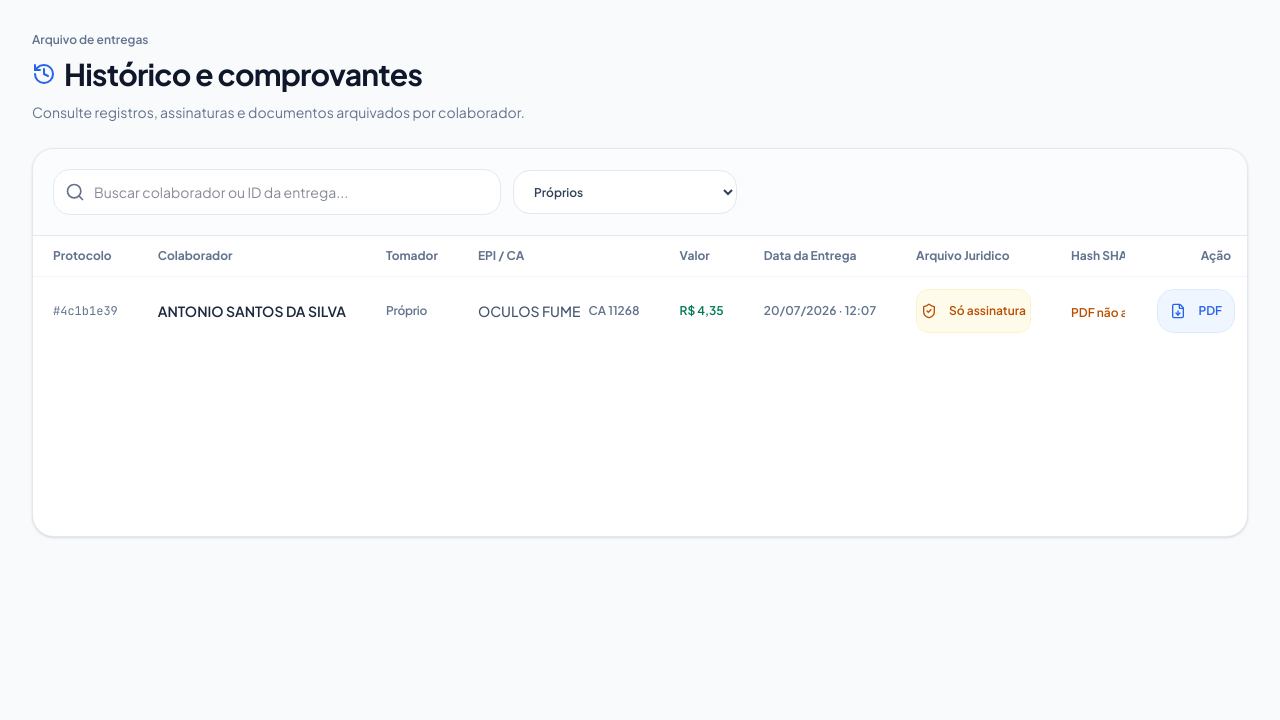
Test: HistoryPage › mantém o botão ocupado enquanto renova o acesso à assinatura e recupera uma falha
The image size is (1280, 720).
Click the button with aria-label "abrir somente a assinatura" at point(974, 311), box [916,289,1031,333]
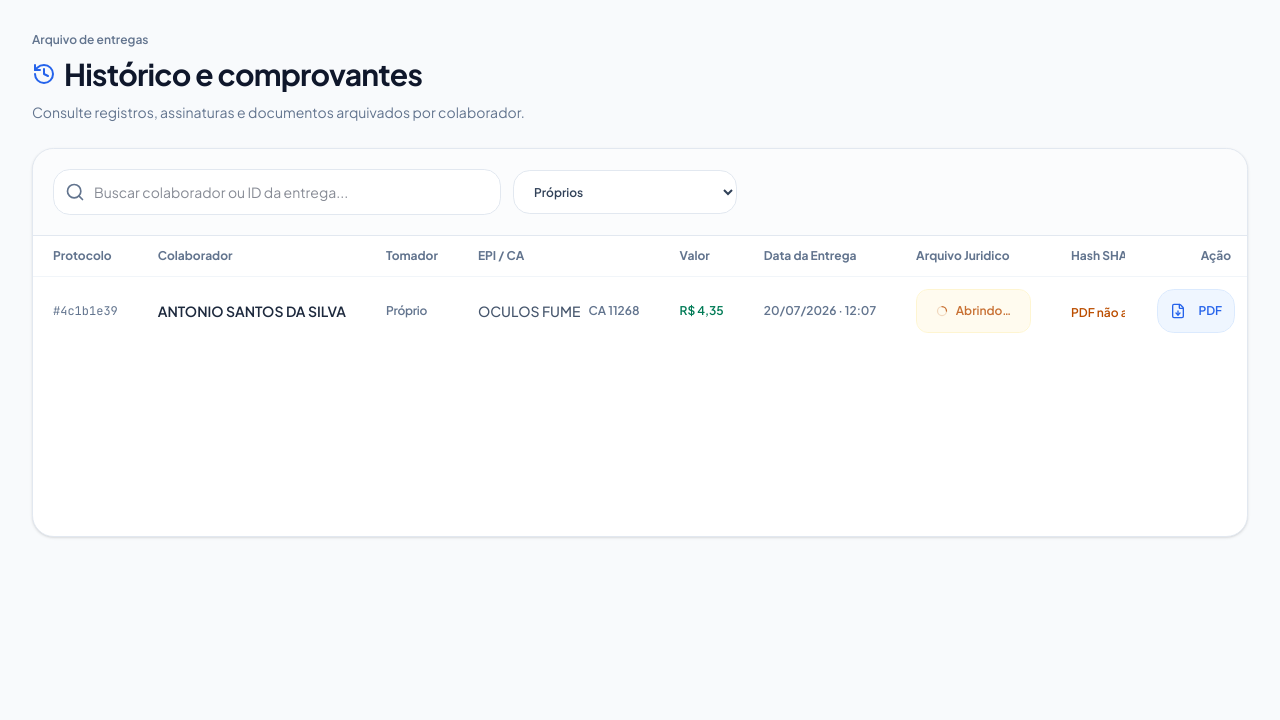
Expected: the button with aria-label "abrir somente a assinatura" is disabled
Click the button with aria-label "abrir somente a assinatura" at point(974, 311), box [916,289,1031,333]
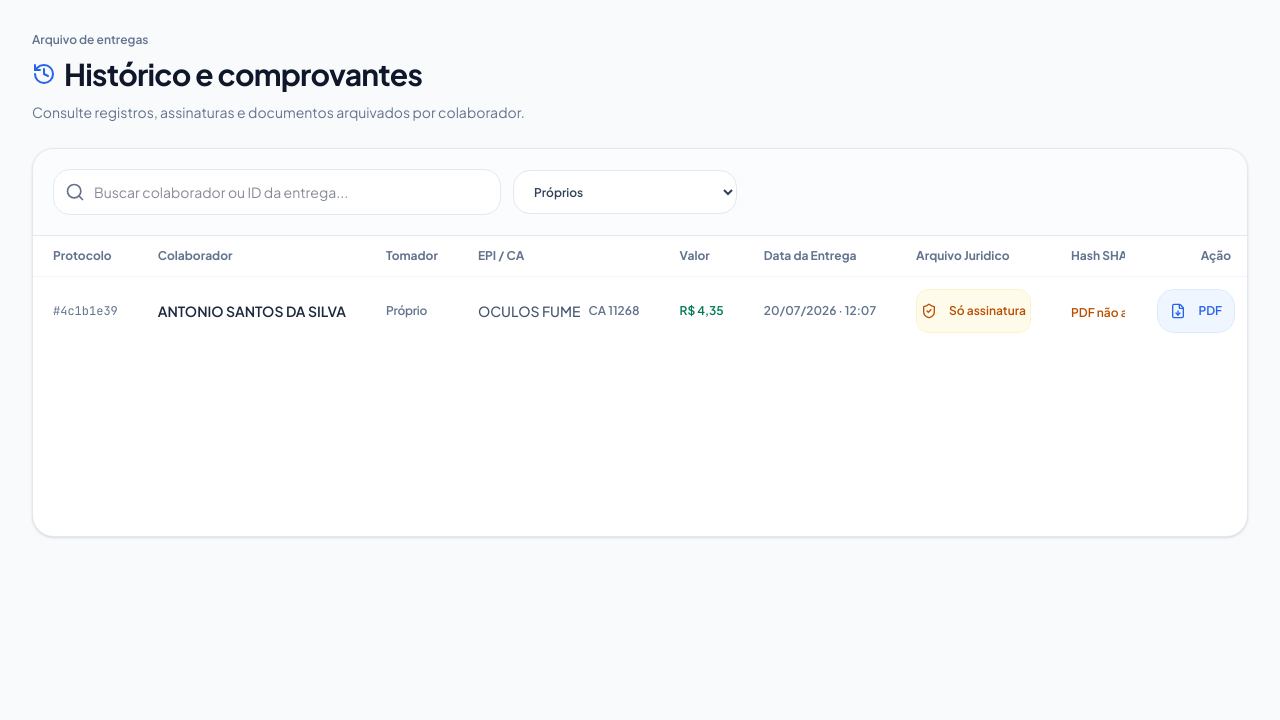
Expected: the button with aria-label "abrir somente a assinatura" is enabled, [916,289,1031,333]
